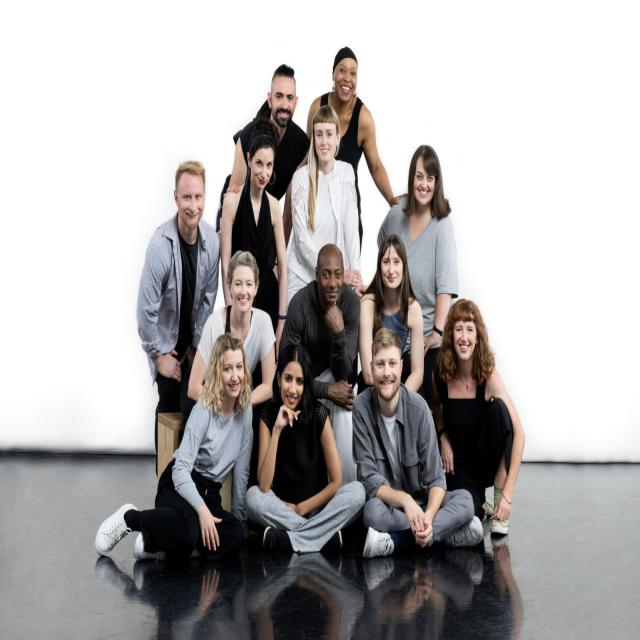adult: (95, 332, 253, 558), (355, 328, 482, 551), (249, 348, 365, 565), (133, 156, 220, 408), (434, 300, 526, 537), (303, 44, 406, 220), (379, 141, 459, 348), (220, 125, 288, 335), (279, 244, 360, 420), (188, 252, 277, 406), (291, 106, 364, 285), (227, 61, 311, 214), (361, 235, 425, 390)
